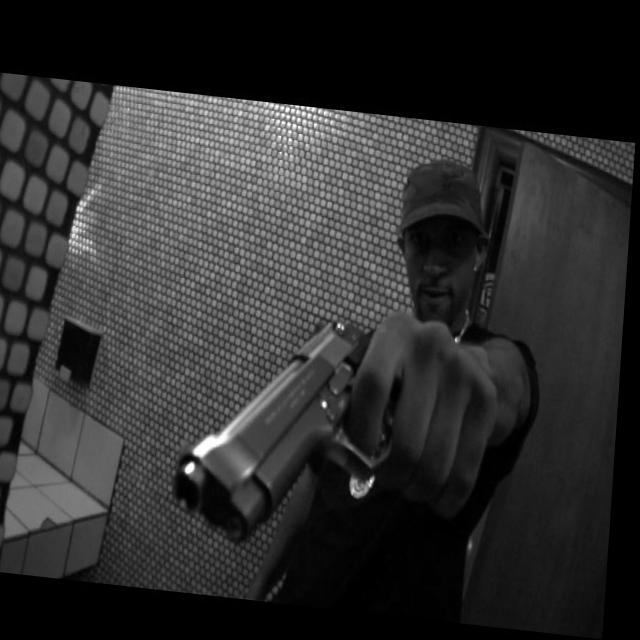handgun: (177, 290, 491, 543)
